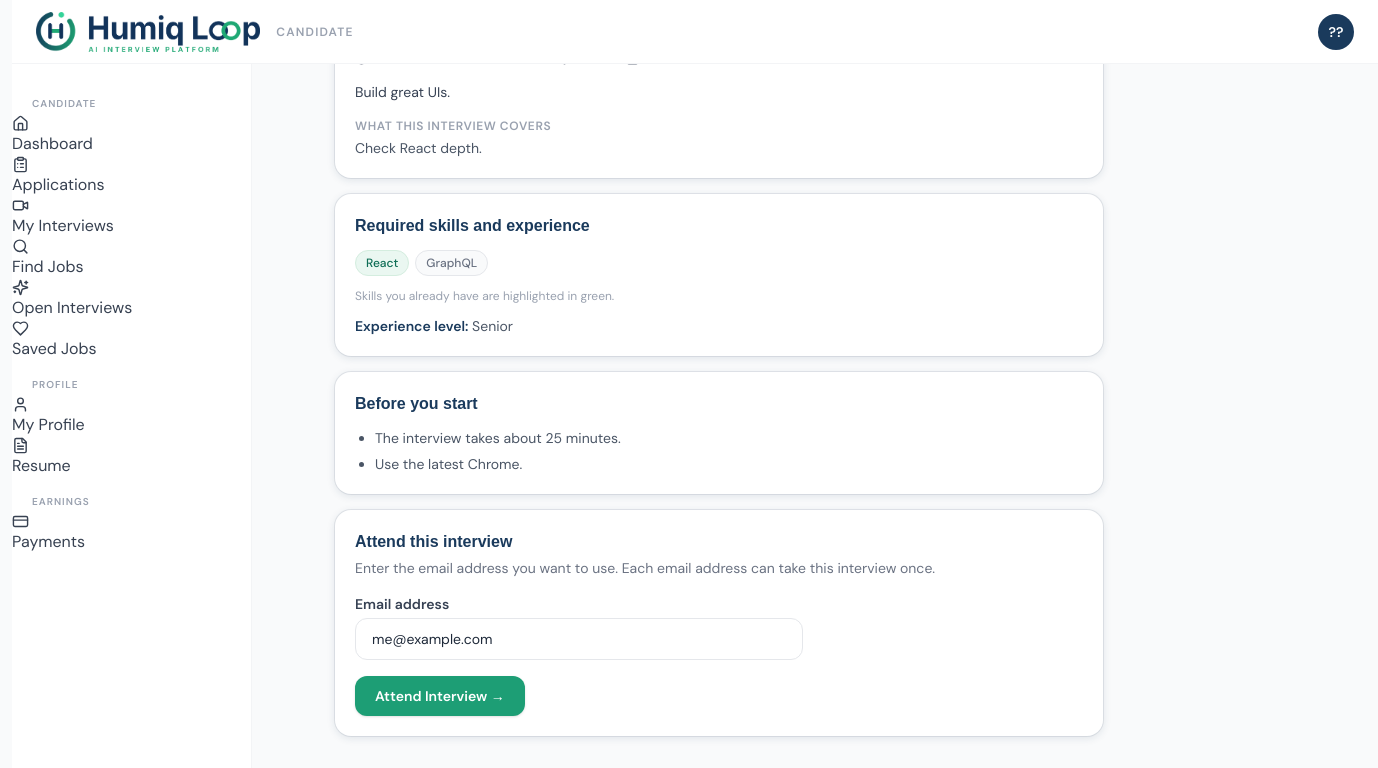
Test: Interview details + attend › NEGATIVE: an invalid email is rejected on the page and never sent to the server
(page scrolled)
Replace the text in the field labelled "Email address" with "not-an-email": (579, 639) [355, 618, 803, 660]
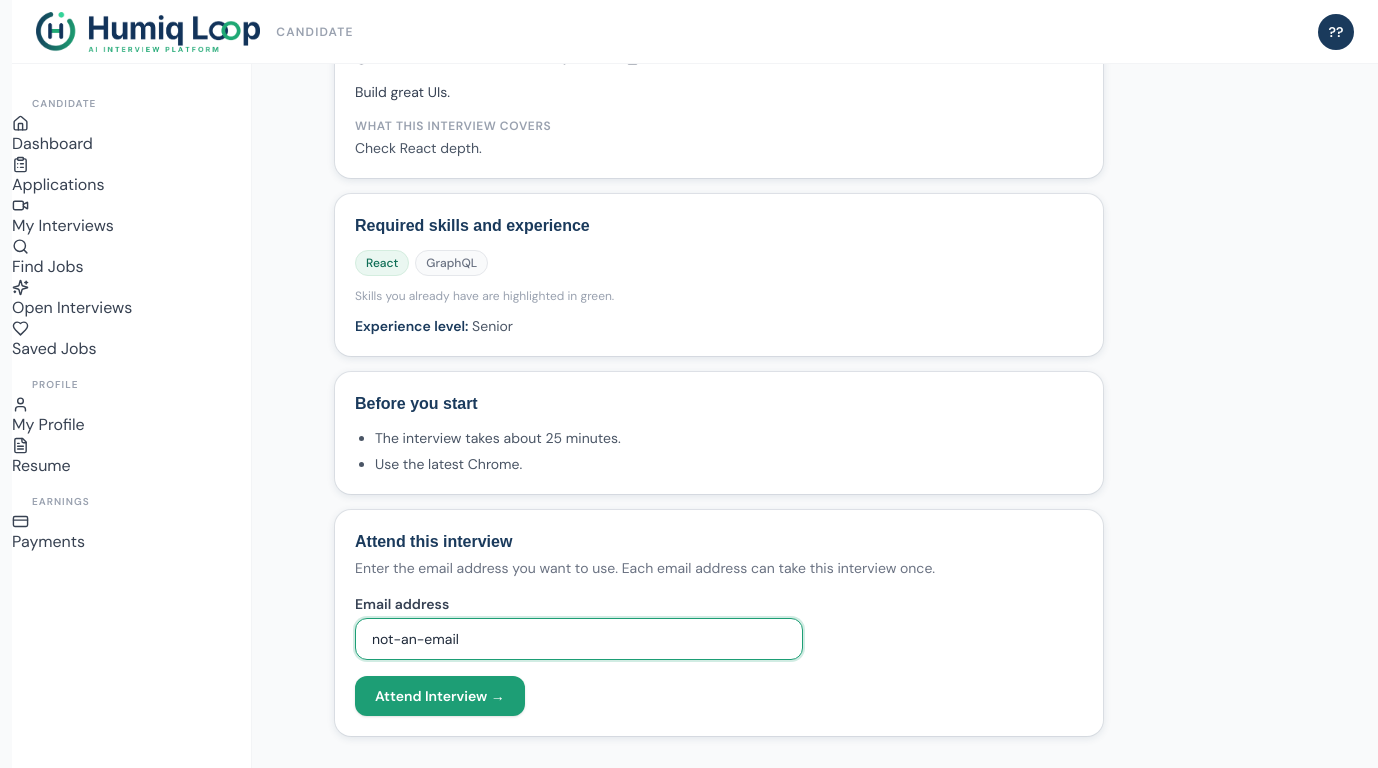
Click the button "Attend Interview →": click(440, 696) [355, 676, 525, 716]
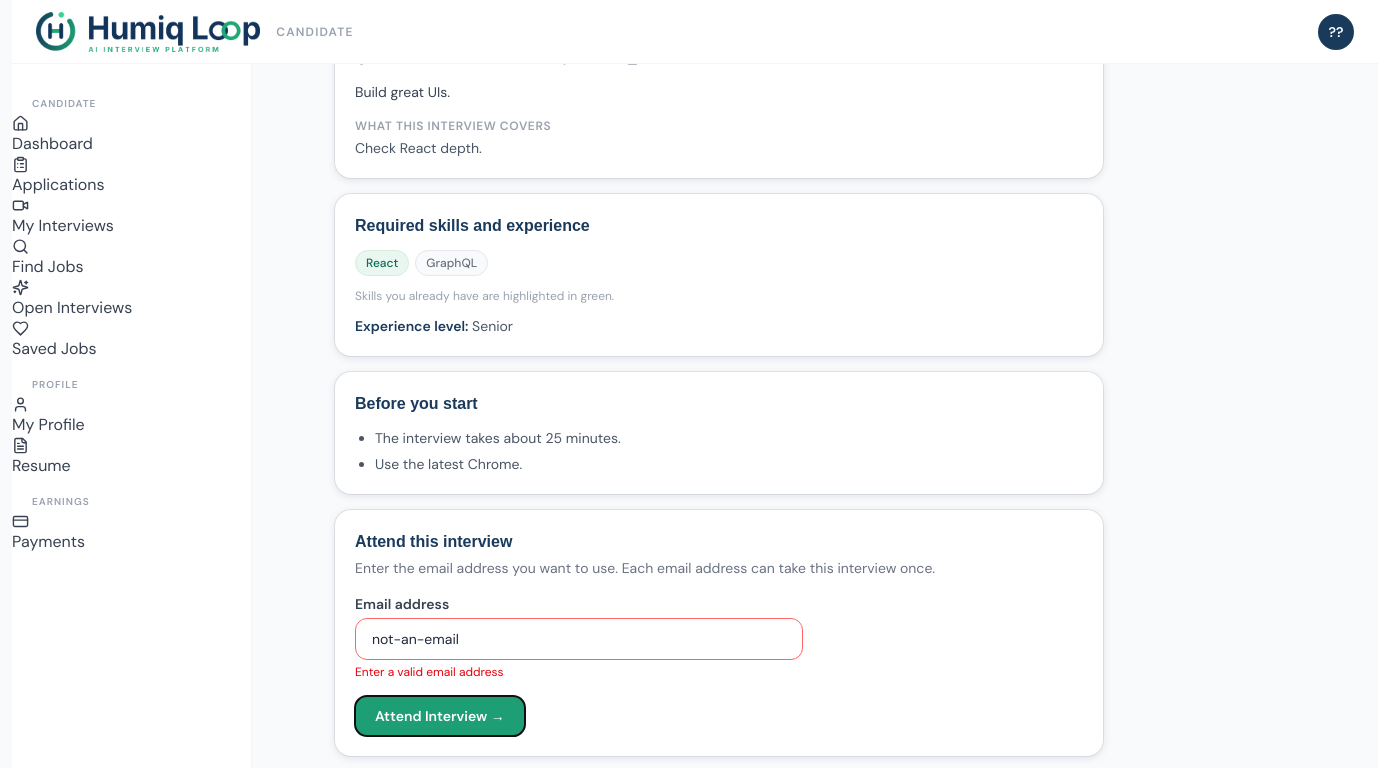
Expected: the text "Enter a valid email address" is shown, [355, 664, 504, 680]
